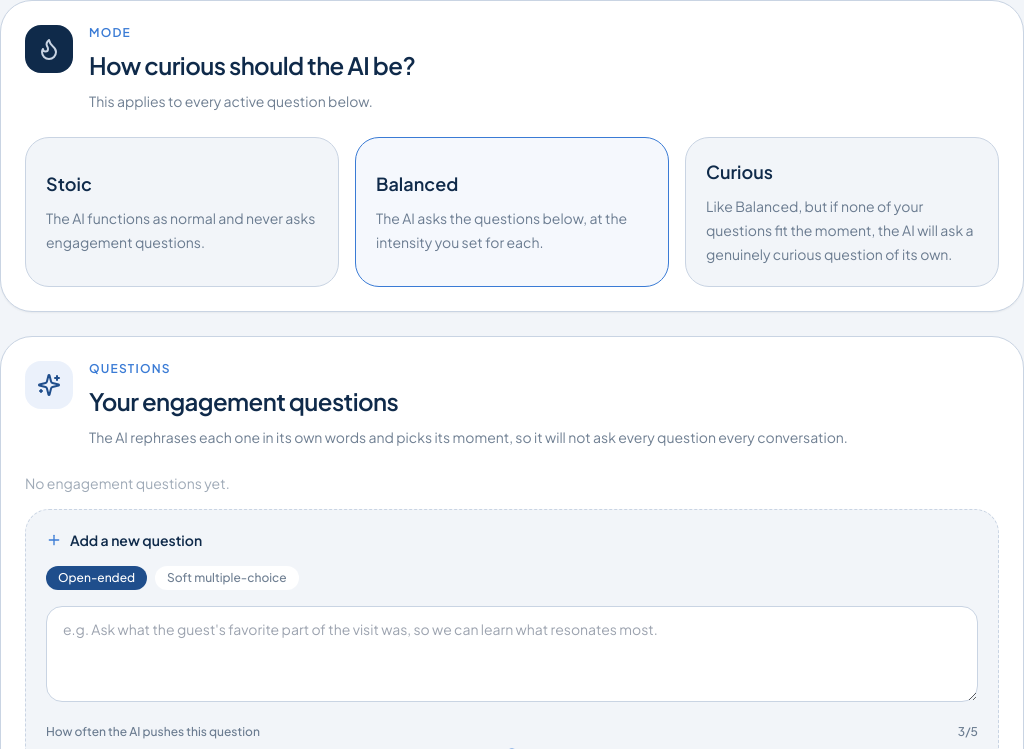
Test: EngagementQuestionsManager › changes mode only after the server confirms and retains mode on failure
This screenshot has width=1024, height=749.
Click the button that starts with "Curious".
click(842, 212)  # box x1=685 y1=137 x2=999 y2=287
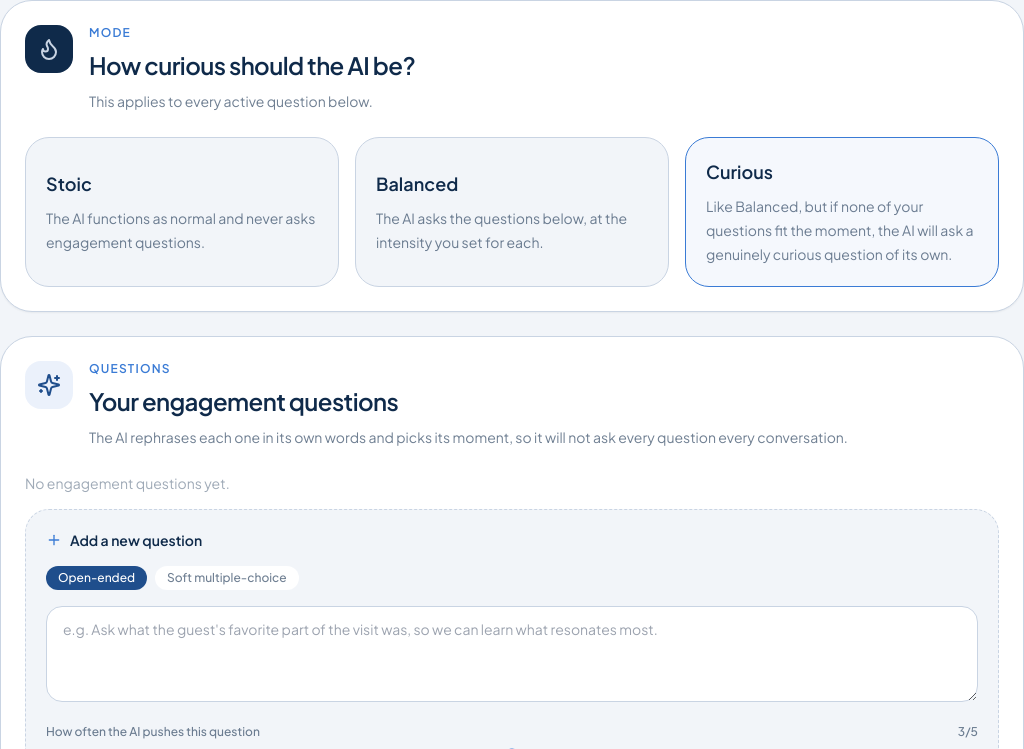
Now the button that starts with "Curious" has class "border-pf-accent", box x1=685 y1=137 x2=999 y2=287
Click the button that starts with "Stoic".
click(182, 212)  # box x1=25 y1=137 x2=339 y2=287
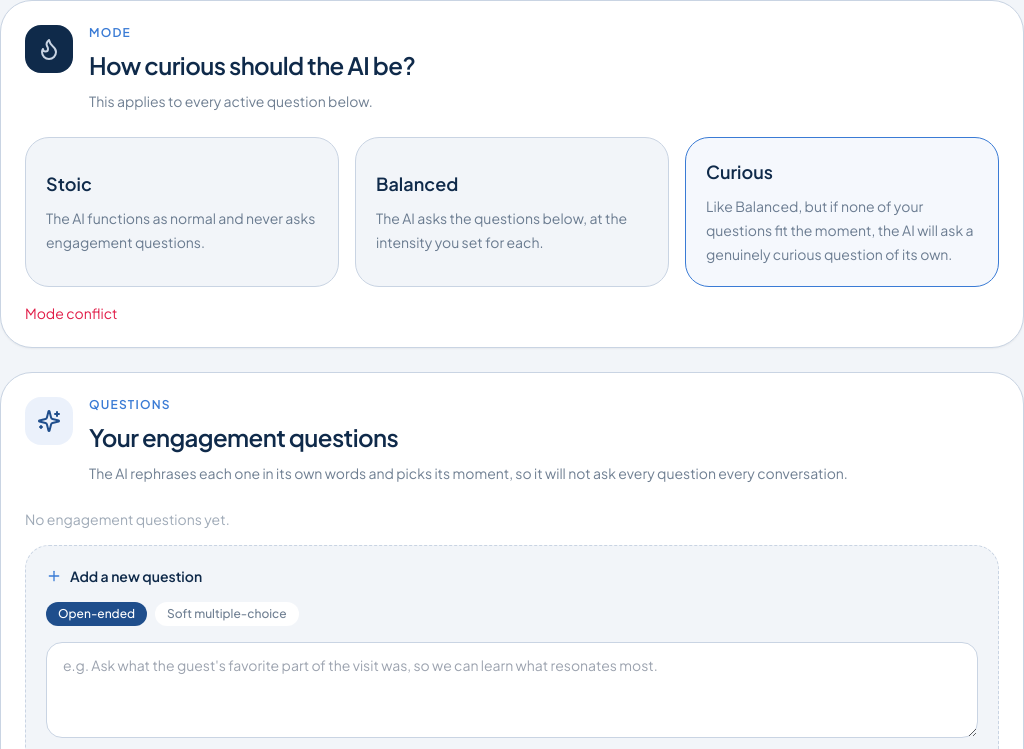
Now the text "Mode conflict" is shown, box x1=25 y1=304 x2=118 y2=322
